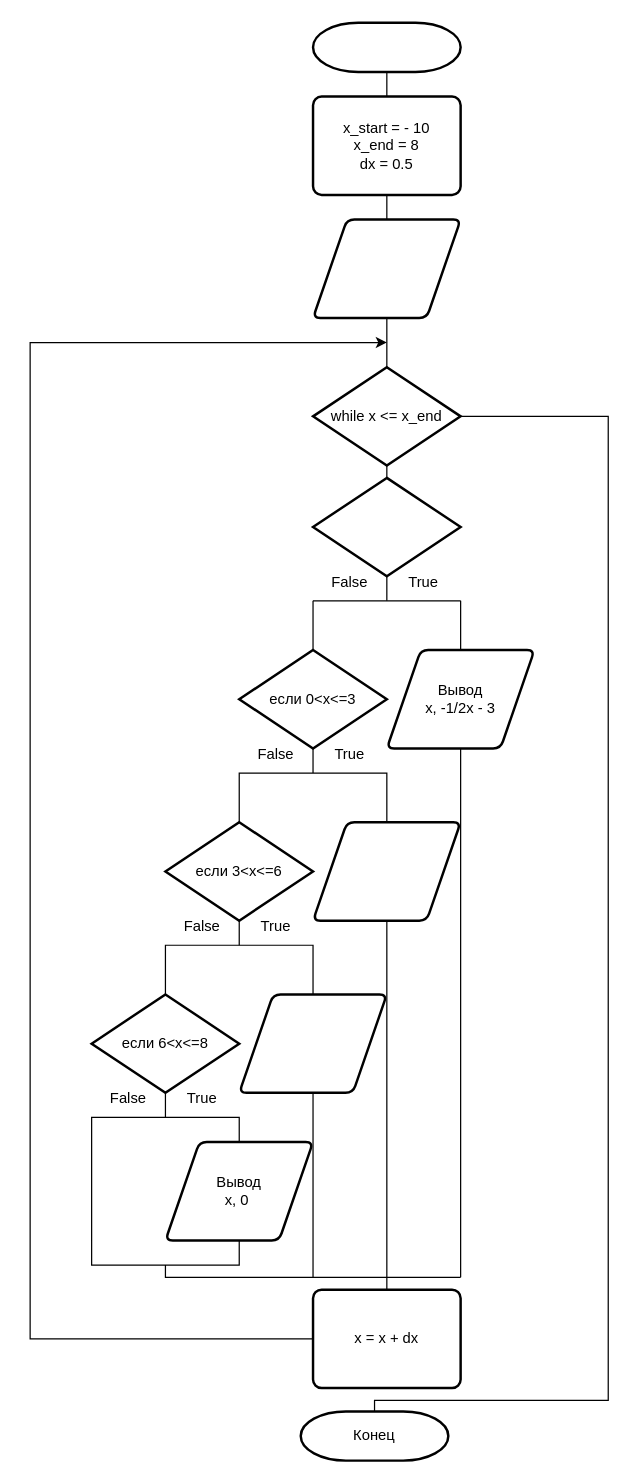
Image size: 631x1482. Some labels were removed from this diagram. The shapes that lost their labels are listed below. From the top down, each one's box as (x1, y1, x2, y2) in pixels, then its label:
(311, 21, 461, 73): Начало
(311, 218, 461, 319): Вывод X | Y
(311, 476, 461, 577): если -10<=x<=0
(311, 820, 461, 921): Вывод x, -sqrt(9-x 2 )
(237, 993, 387, 1093): Вывод x, sqrt(9 - (x-6) 2 )
